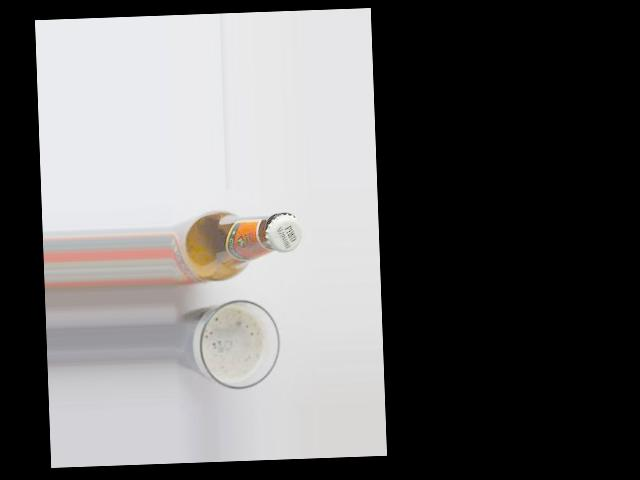beer: (169, 208, 303, 286)
